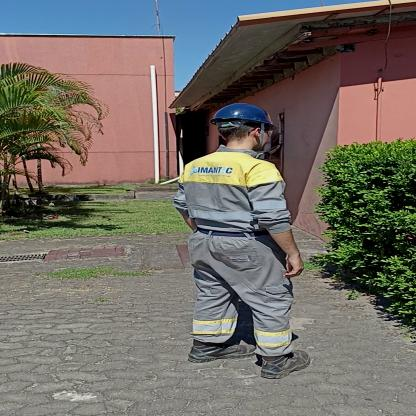Capacete: (216, 100, 271, 124)
